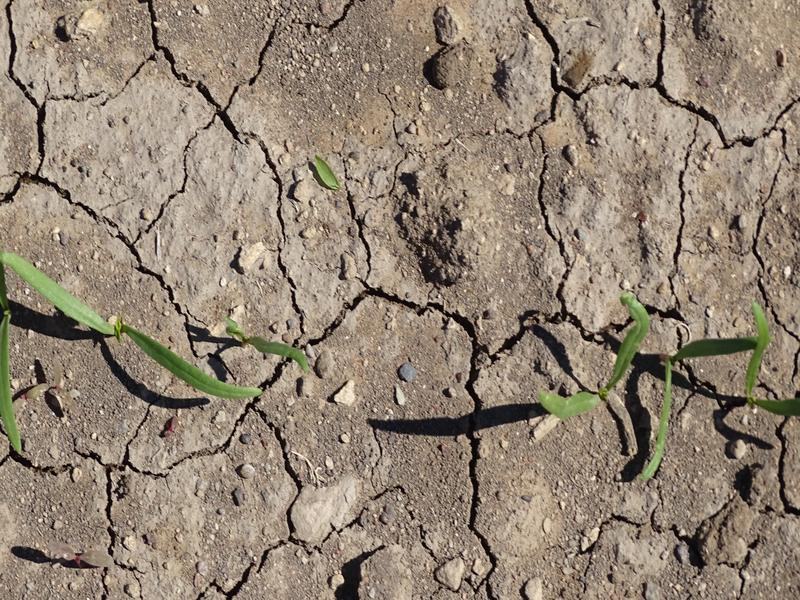Espinaca: (6, 247, 269, 401), (564, 295, 690, 480), (741, 309, 800, 413)
